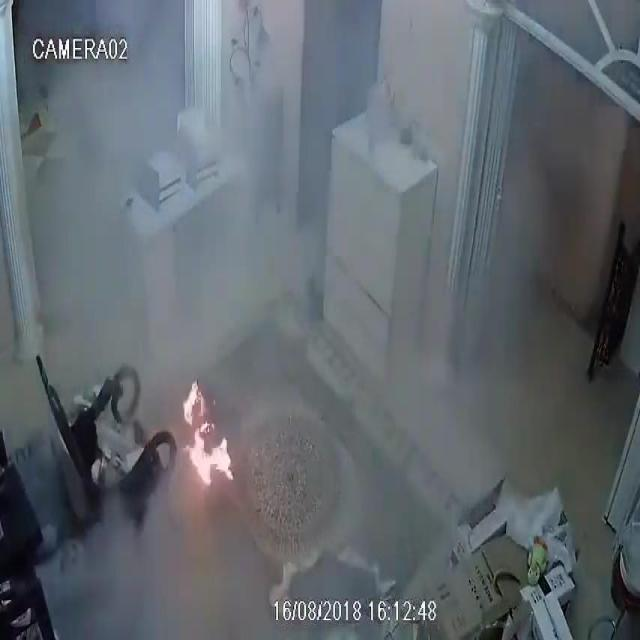fire: (182, 426, 232, 487), (183, 380, 214, 434)
